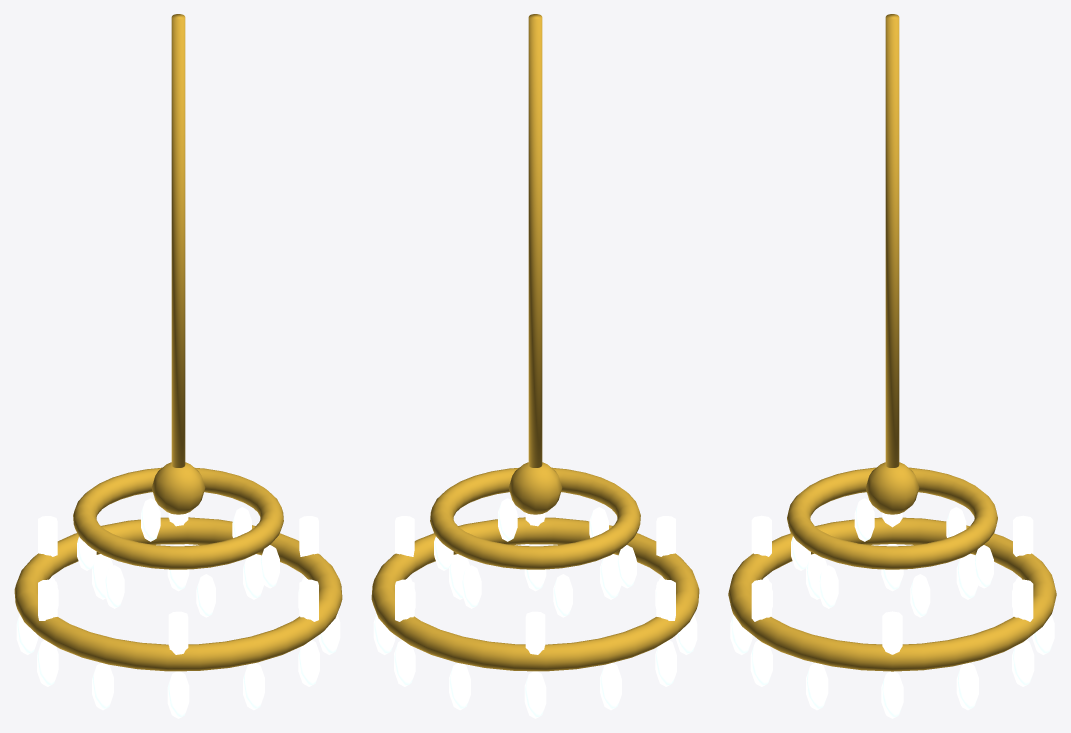
File: chandelier.glb
The picture shows the model from 3 angles, left to right: view 1: azimuth 30°, elevation 25°; view 2: azimuth 150°, elevation 25°; view 3: azimuth 270°, elevation 25°; orthographic projection.
Parts seen in each view (by area): view 1: chandelier; view 2: chandelier; view 3: chandelier.
Boxes of the visible parts, <box> form: chandelier: <box>14,14,342,718</box>; chandelier: <box>371,14,699,718</box>; chandelier: <box>728,14,1056,718</box>.
Bounding box in the file's own units: 0.98 × 2.1 × 0.98.
